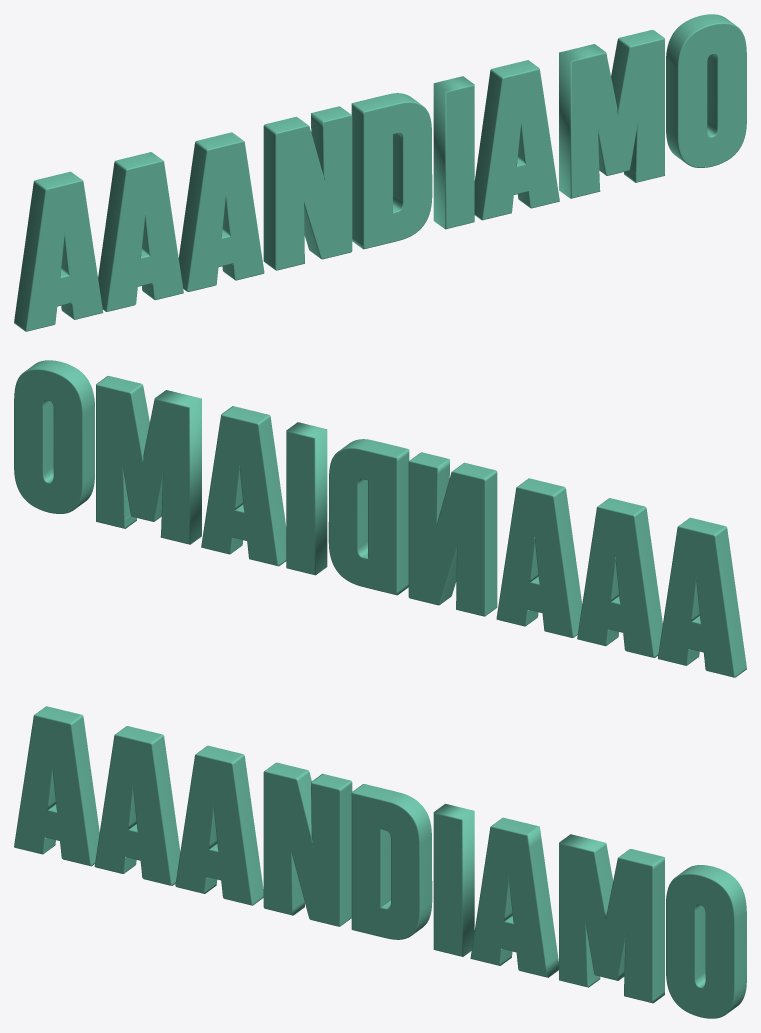
File: aaandiamo.gltf
3 views of the same model, one above another, from view 1: azimuth 30°, elevation 25°; view 2: azimuth 150°, elevation 25°; view 3: azimuth 330°, elevation 25° (orthographic).
Parts seen in each view (by area): view 1: Curve.001; view 2: Curve.001; view 3: Curve.001.
Part boxes in pixels (x1,y1,x2,y2): Curve.001: (14, 14, 746, 331); Curve.001: (14, 360, 746, 677); Curve.001: (14, 706, 746, 1018).
Size of the model in its own units: 8.73 by 1.65 by 0.2601.
